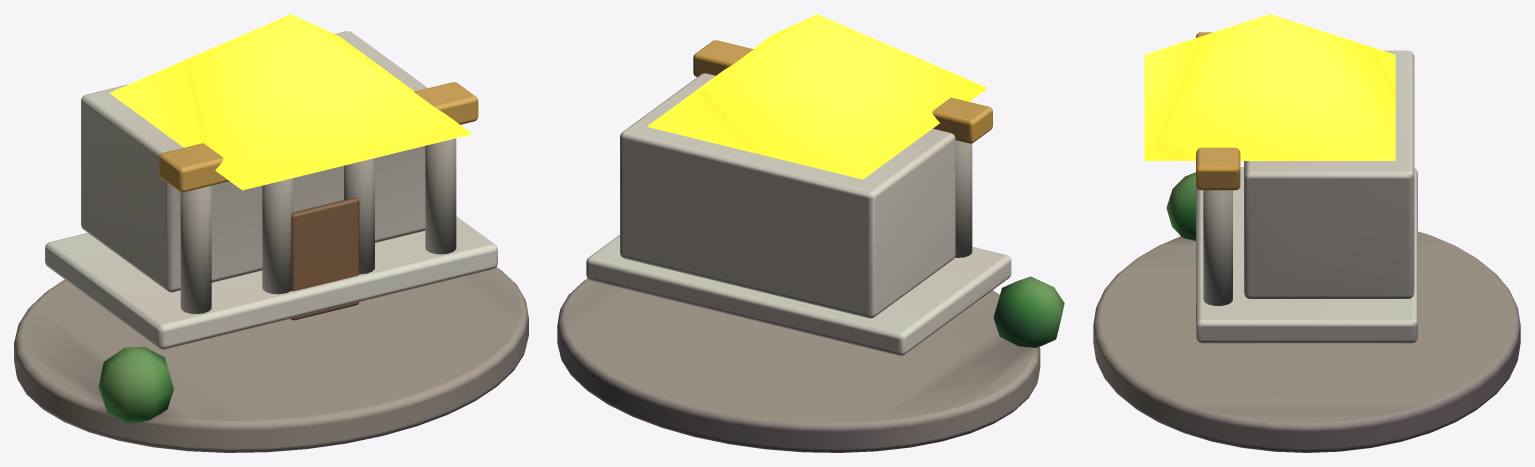
File: temple.glb
The picture shows the model from 3 angles, left to right: view 1: azimuth 30°, elevation 25°; view 2: azimuth 150°, elevation 25°; view 3: azimuth 270°, elevation 25°; orthographic projection. The views are drawn at different scales.
Parts seen in each view (by area): view 1: temple; view 2: temple; view 3: temple.
Part boxes in pixels (left/top/right/bottom): temple: left=14, top=14, right=528, bottom=452; temple: left=557, top=14, right=1064, bottom=452; temple: left=1093, top=14, right=1520, bottom=452.
Size of the model in its own units: 6.66 by 4.9 by 5.66.
